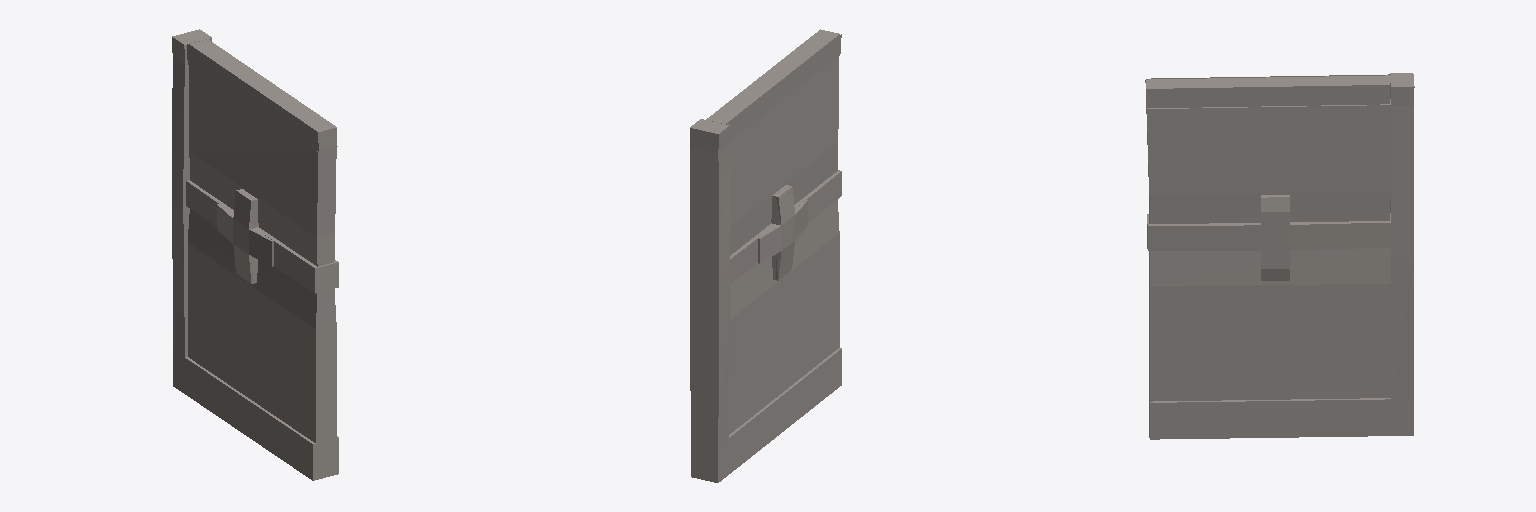
Rendered from NewDoor.obj.
3 renders of one model, left to right at view 1: azimuth 30°, elevation 25°; view 2: azimuth 150°, elevation 25°; view 3: azimuth 270°, elevation 25°, orthographic.
Parts seen in each view (by area): view 1: Door_Cube; view 2: Door_Cube; view 3: Door_Cube.
Boxes of the visible parts, <box> form: Door_Cube: <box>172,29,338,480</box>; Door_Cube: <box>690,29,841,482</box>; Door_Cube: <box>1145,73,1414,439</box>.
Size of the model in its own units: 0.4326 by 3.99 by 2.78.